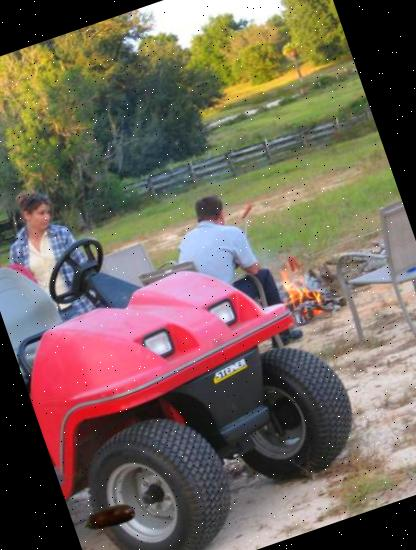Eggplant: (75, 483, 144, 550)
